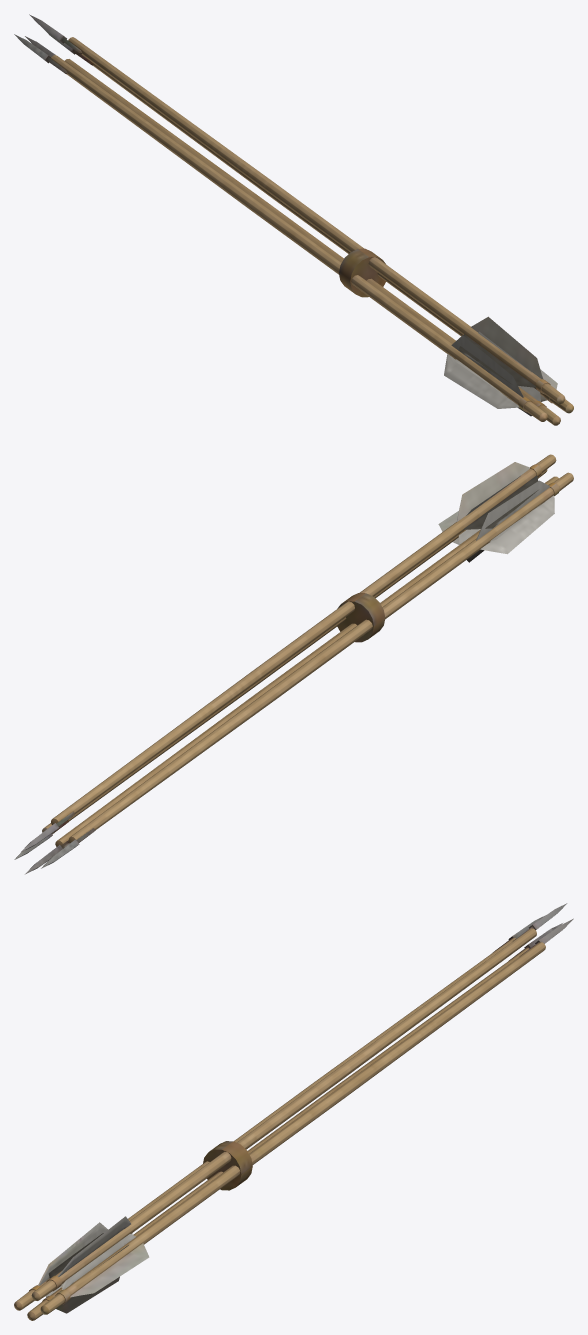
File: arrows_bodkin.glb
3 views of the same model, one above another, from view 1: azimuth 30°, elevation 25°; view 2: azimuth 150°, elevation 25°; view 3: azimuth 330°, elevation 25° (orthographic).
Visible parts, largest first — view 1: arrows_bodkin; view 2: arrows_bodkin; view 3: arrows_bodkin.
Boxes of the visible parts, x1,y1,x2,y2 form: arrows_bodkin: (14, 14, 573, 425); arrows_bodkin: (14, 454, 573, 874); arrows_bodkin: (14, 903, 573, 1320).
Size of the model in its own units: 0.0624 by 0.0575 by 0.841.
Materials: 1 (1 with a texture image).
